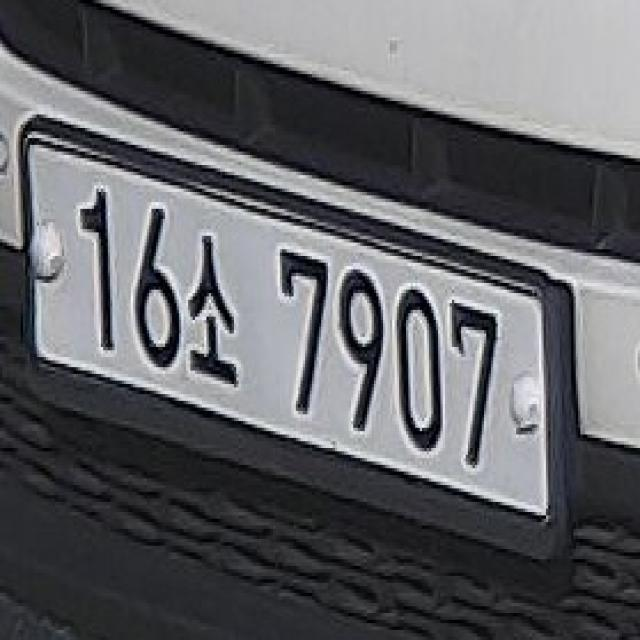0: (388, 273, 447, 458)
1: (68, 175, 122, 364)
6: (126, 192, 186, 374)
7: (273, 239, 333, 421), (448, 296, 502, 472)
9: (335, 256, 388, 438)
license_plate: (14, 108, 573, 579)
so: (186, 219, 243, 391)
